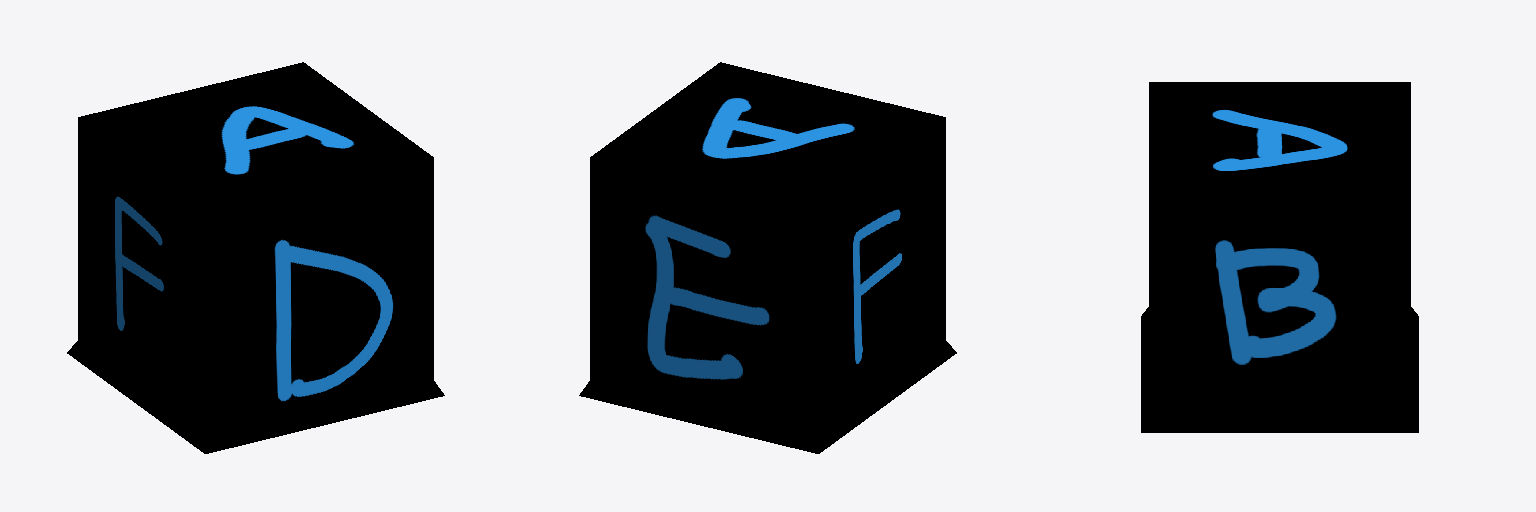
3 views of the same model, side by side, from view 1: azimuth 30°, elevation 25°; view 2: azimuth 150°, elevation 25°; view 3: azimuth 270°, elevation 25° (orthographic).
Parts seen in each view (by area): view 1: Cube, Cone; view 2: Cube, Cone; view 3: Cube, Cone.
Boxes of the visible parts, x1,y1,x2,y2 form: Cube: [78, 62, 433, 435]; Cone: [67, 341, 444, 453]; Cube: [590, 62, 945, 435]; Cone: [579, 341, 956, 453]; Cube: [1149, 82, 1410, 415]; Cone: [1141, 307, 1418, 432].
Size of the model in its own units: 2.12 by 2 by 2.12.
2 materials, 2 textured.